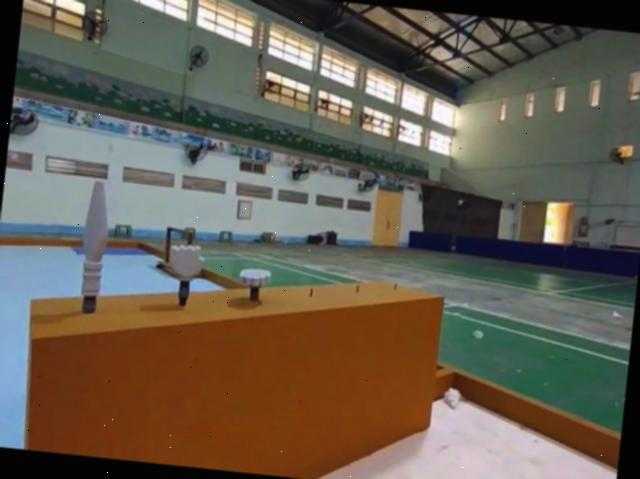Fist: (170, 242, 209, 310)
Hand: (239, 263, 276, 301)
Sph: (71, 181, 114, 319)
